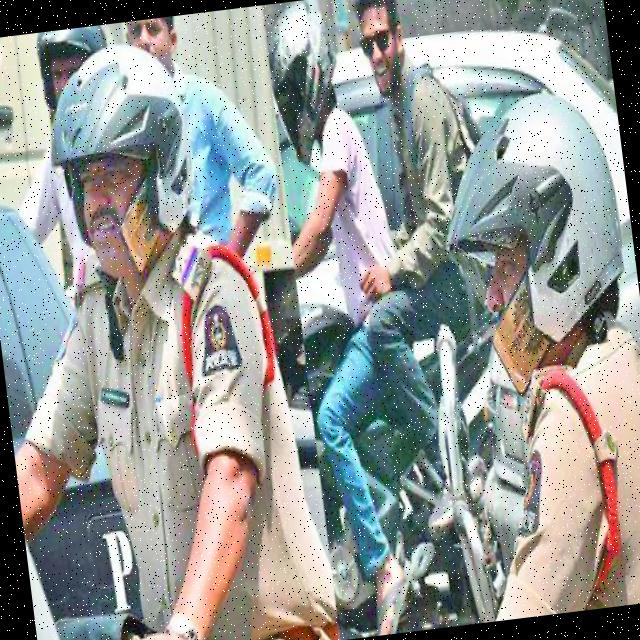No helmet: (341, 0, 426, 107)
